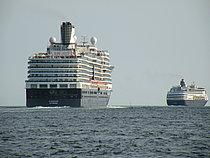Ship: (21, 19, 119, 113), (160, 75, 210, 110)
